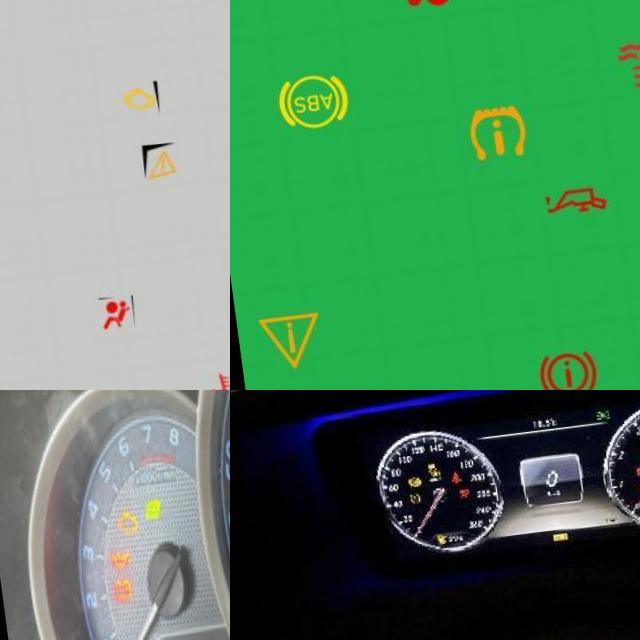Low fuel level: (428, 540, 437, 550)
